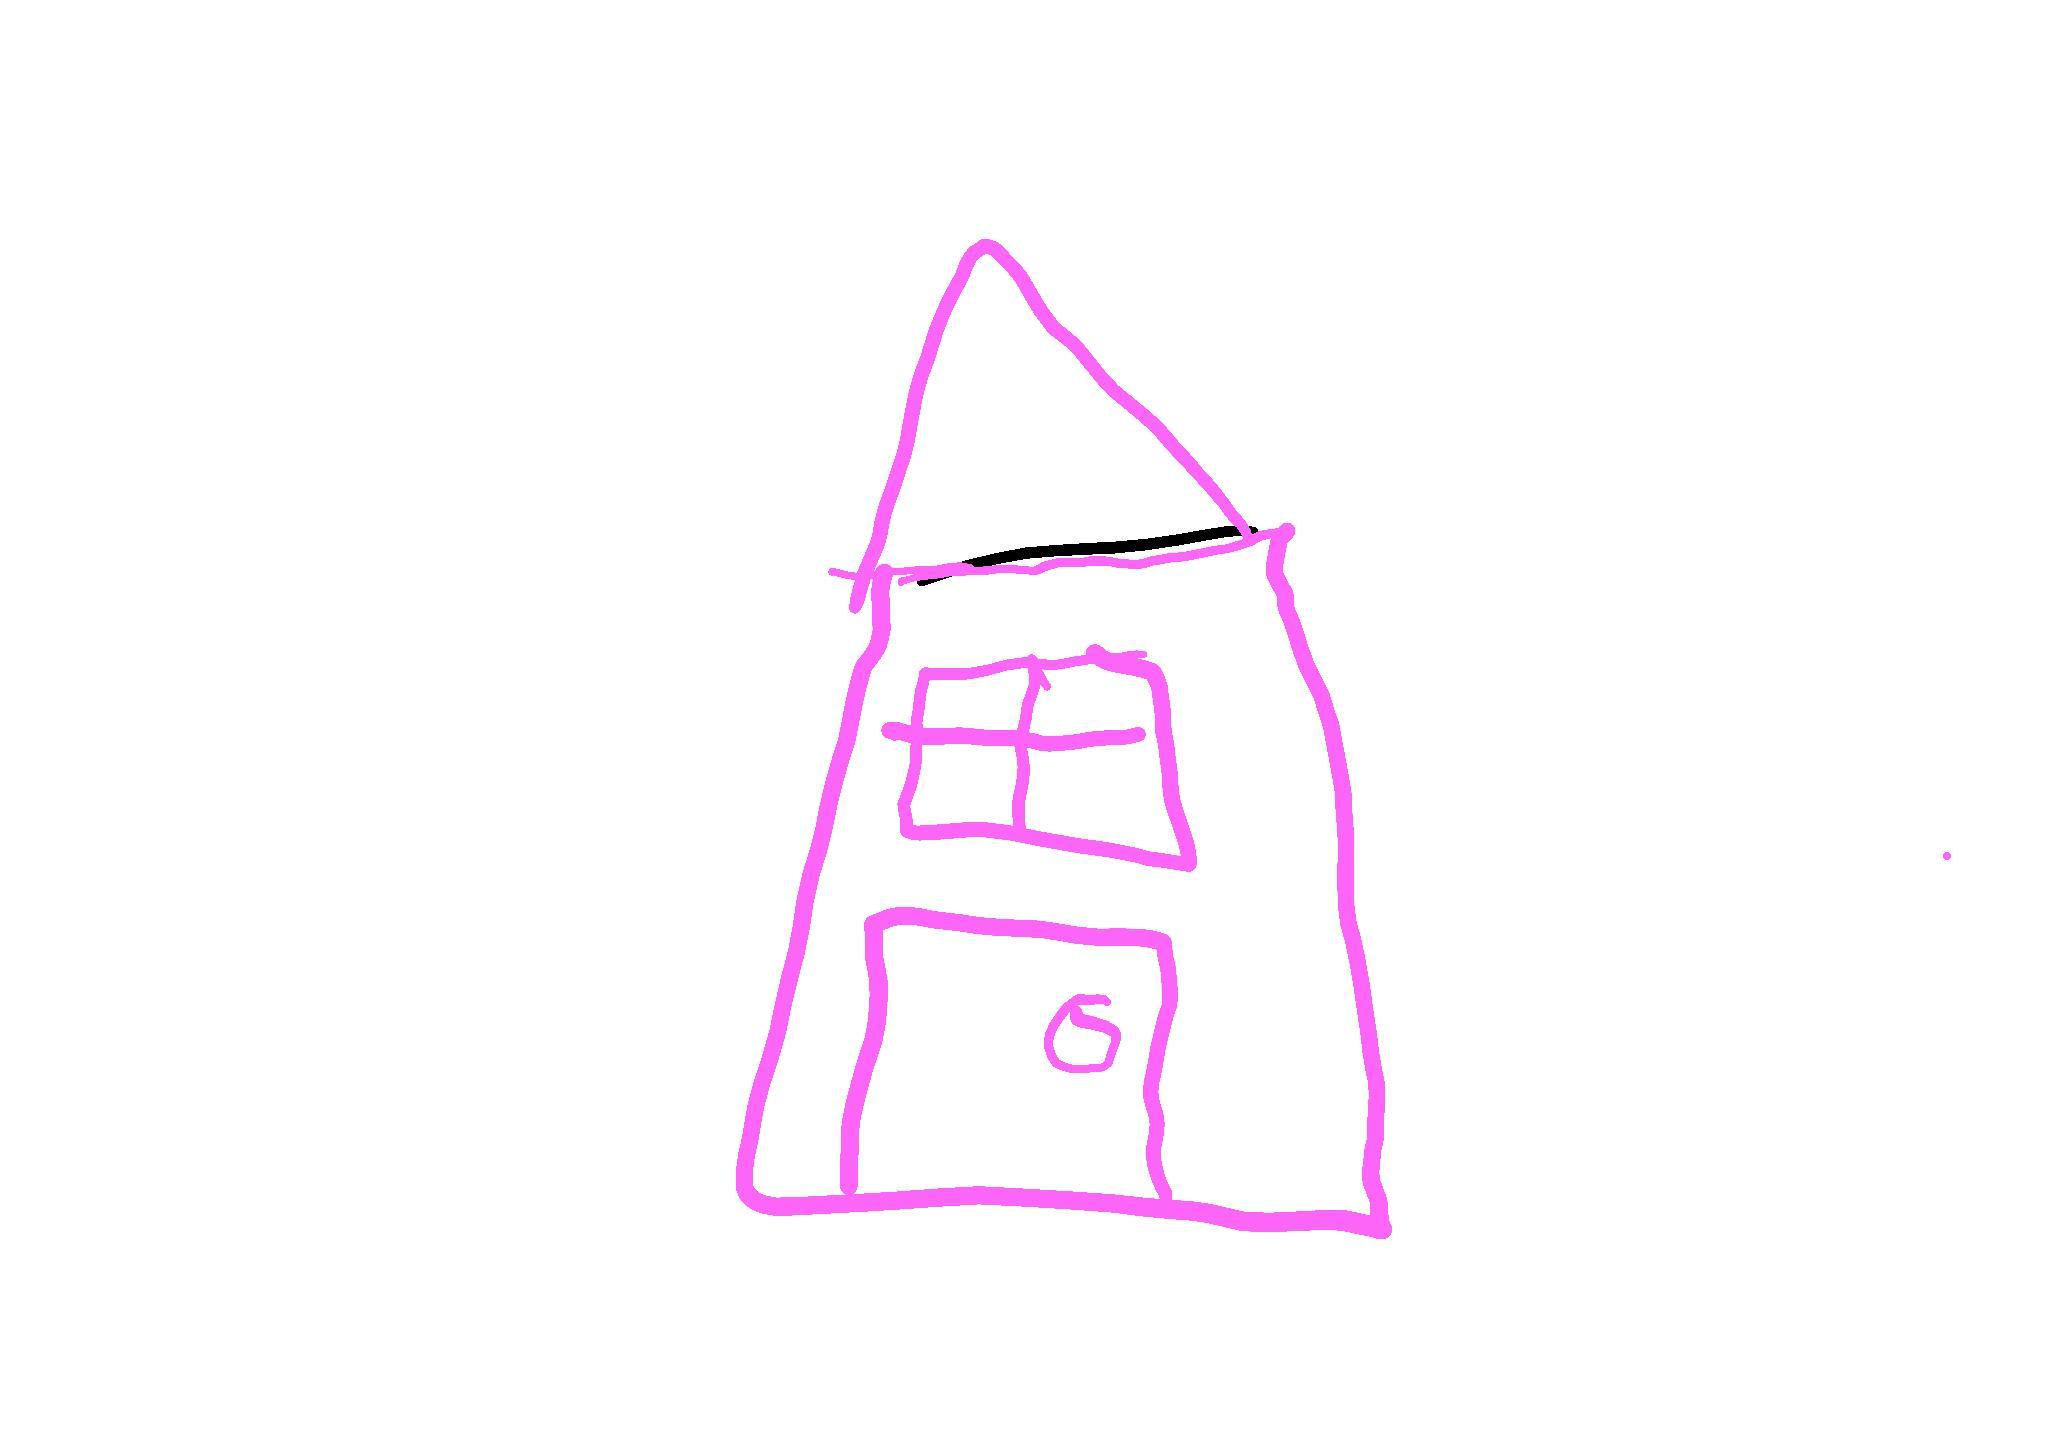door: (834, 903, 1189, 1228)
house: (737, 238, 1391, 1240)
roof: (856, 231, 1284, 583)
wall: (739, 530, 1389, 1237)
window: (892, 645, 1211, 870)
